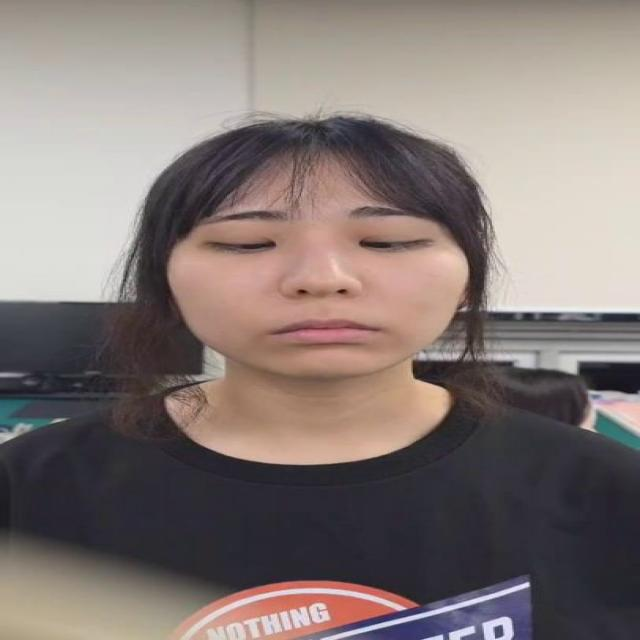face: (165, 117, 478, 379), (206, 231, 439, 258)
iris_down: (359, 236, 397, 252), (241, 236, 273, 252)
